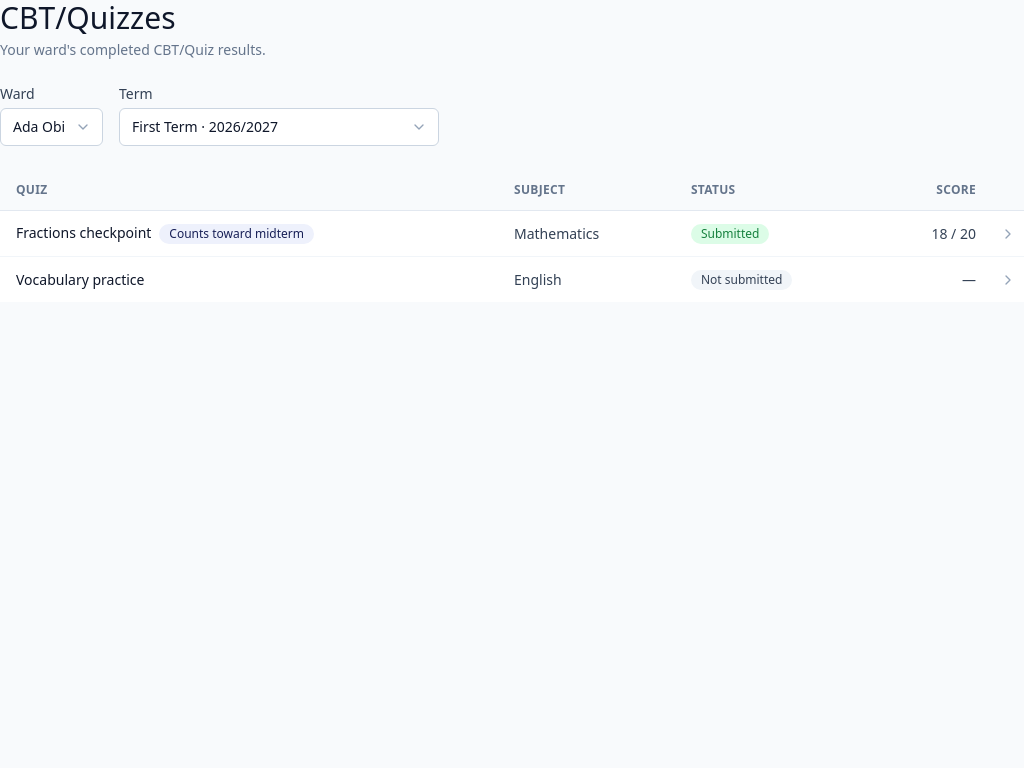
Scenario: WardTakeHomeQuizzesPage › opens a quiz's result detail when its row is tapped
Click the text "Fractions checkpoint" at (84, 232), box x1=16 y1=223 x2=151 y2=242
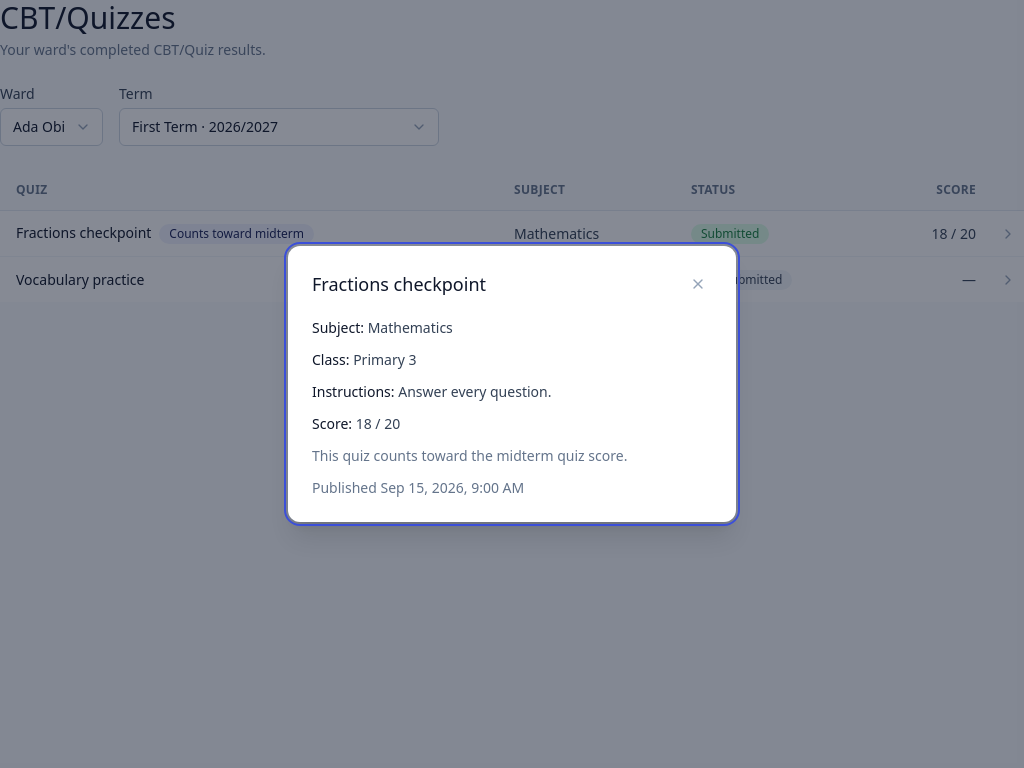
Result: the text "Answer every question." is shown at x1=398 y1=382 x2=551 y2=401
Result: the text "This quiz counts toward the midterm quiz score." is shown at x1=312 y1=446 x2=627 y2=465
